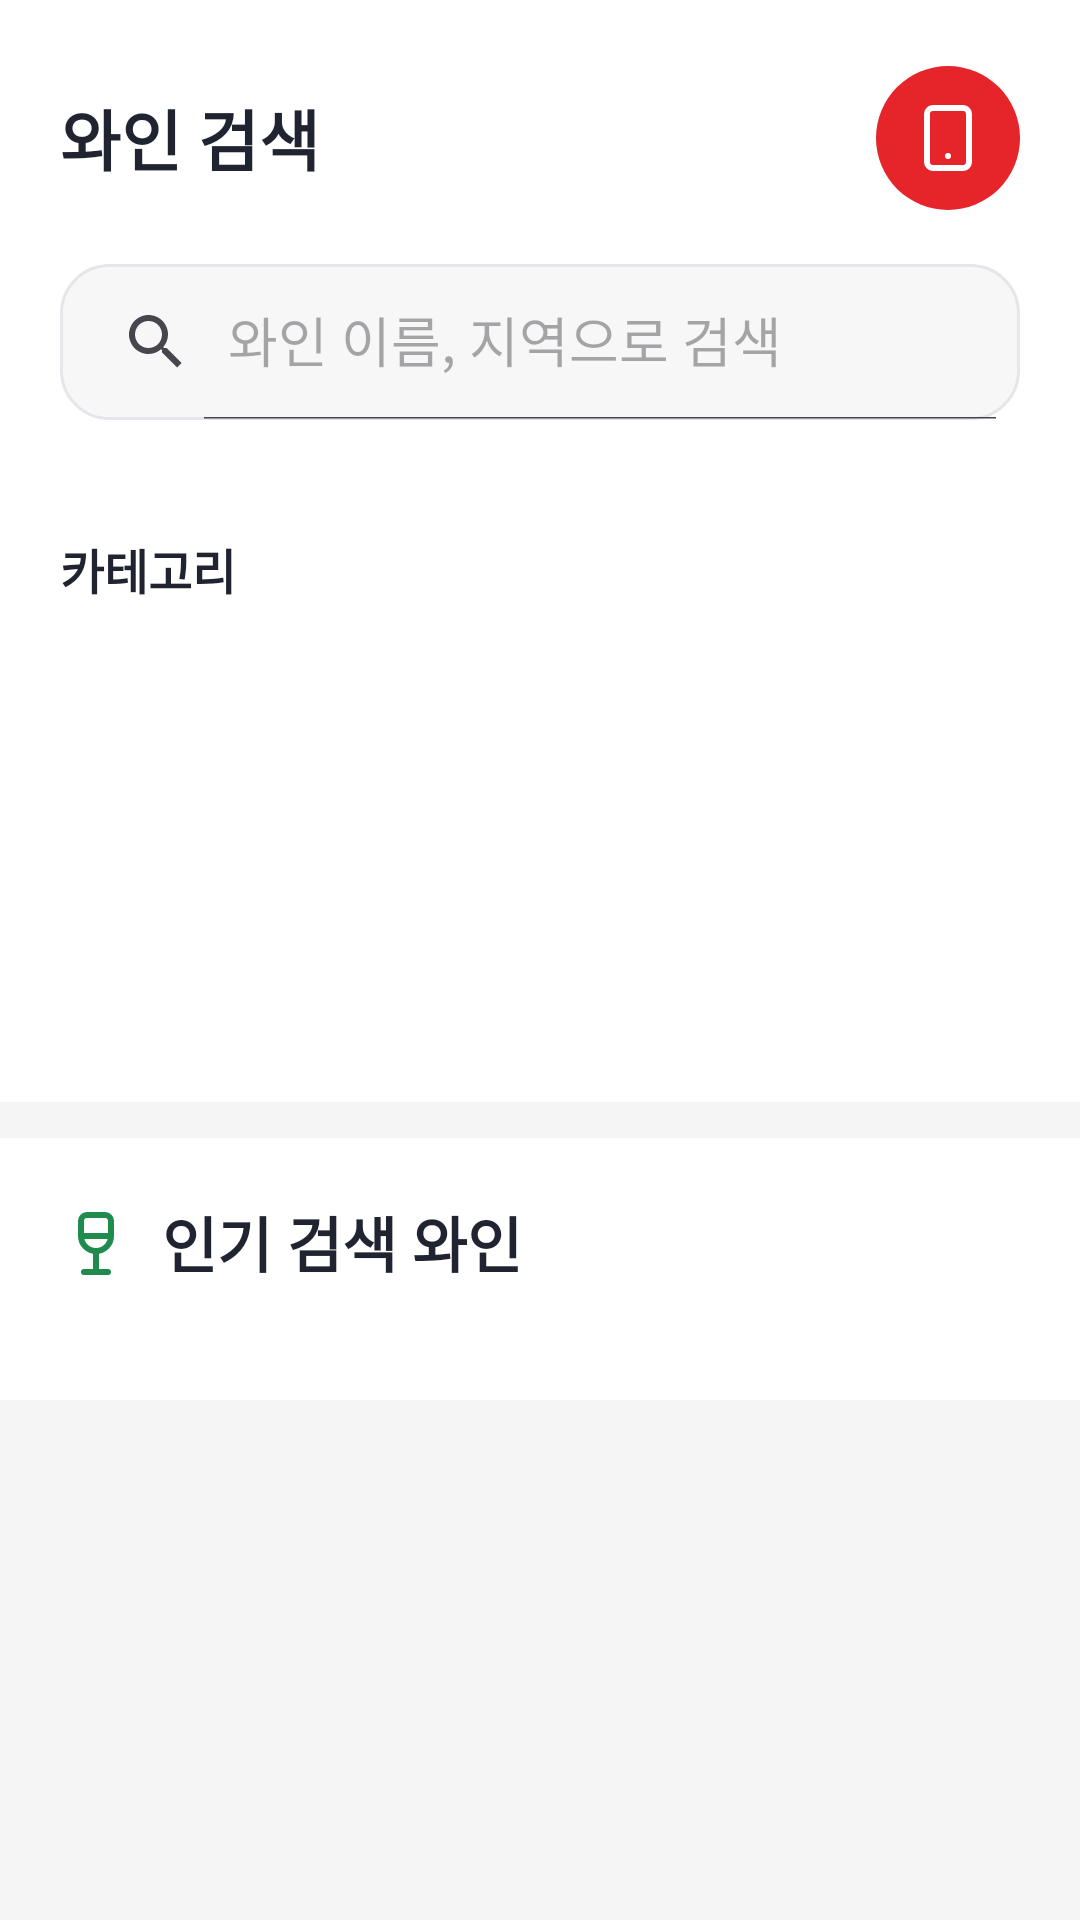

Locate icon controls on the screen. Image size 1080x1920, boxes as (x1, y1, x2, y2).
smartphone: (876, 66, 1020, 210)
wine: (78, 1212, 114, 1275)
